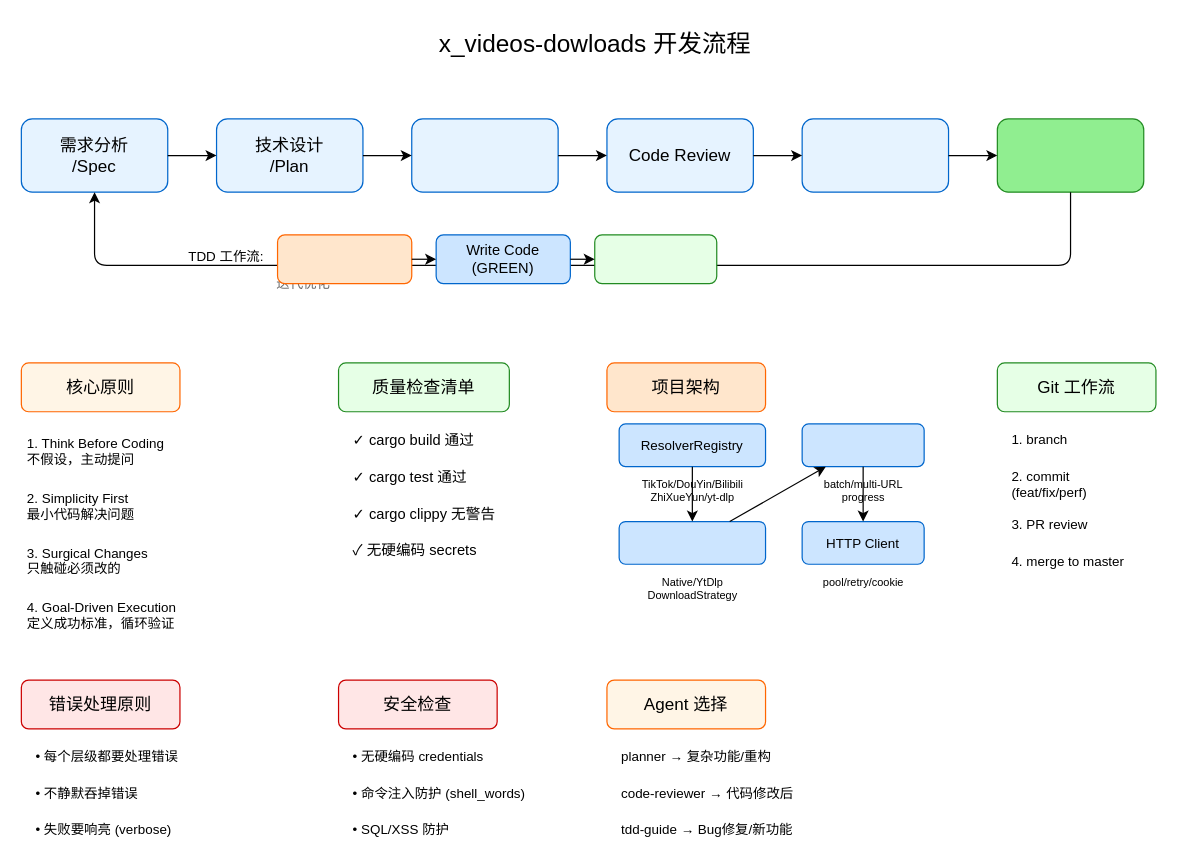
Image size: 1177x865. Some labels were removed from this diagram. Here are the shapes that lost their labels. From the top down, the box of each, then its label:
(411, 118, 558, 192): 编码实现 /Build
(801, 118, 949, 192): 测试验证 /Test
(996, 118, 1144, 192): 部署上线 /Ship
(276, 234, 412, 284): Write Test (RED)
(594, 234, 717, 284): Refactor
(801, 423, 924, 467): GUI (Slint)
(618, 520, 766, 564): VideoDownloader
